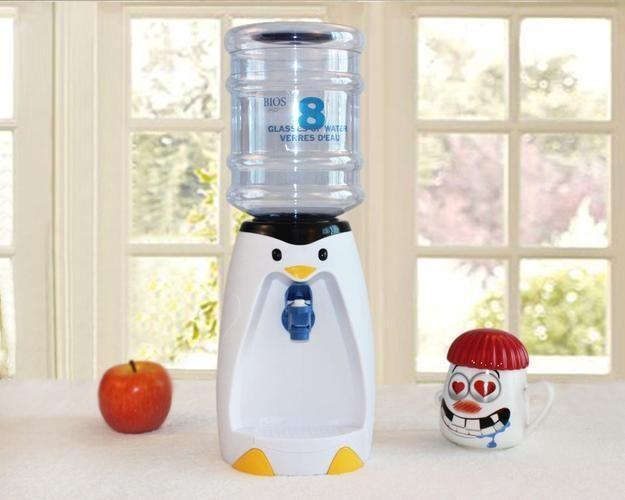Dispenser: (214, 21, 375, 475)
